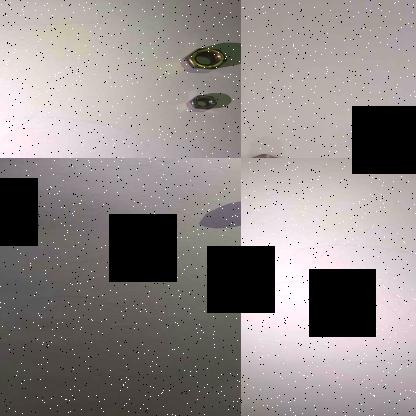NUTS: (179, 44, 238, 72), (362, 123, 406, 151), (184, 92, 221, 116), (241, 151, 284, 158)
